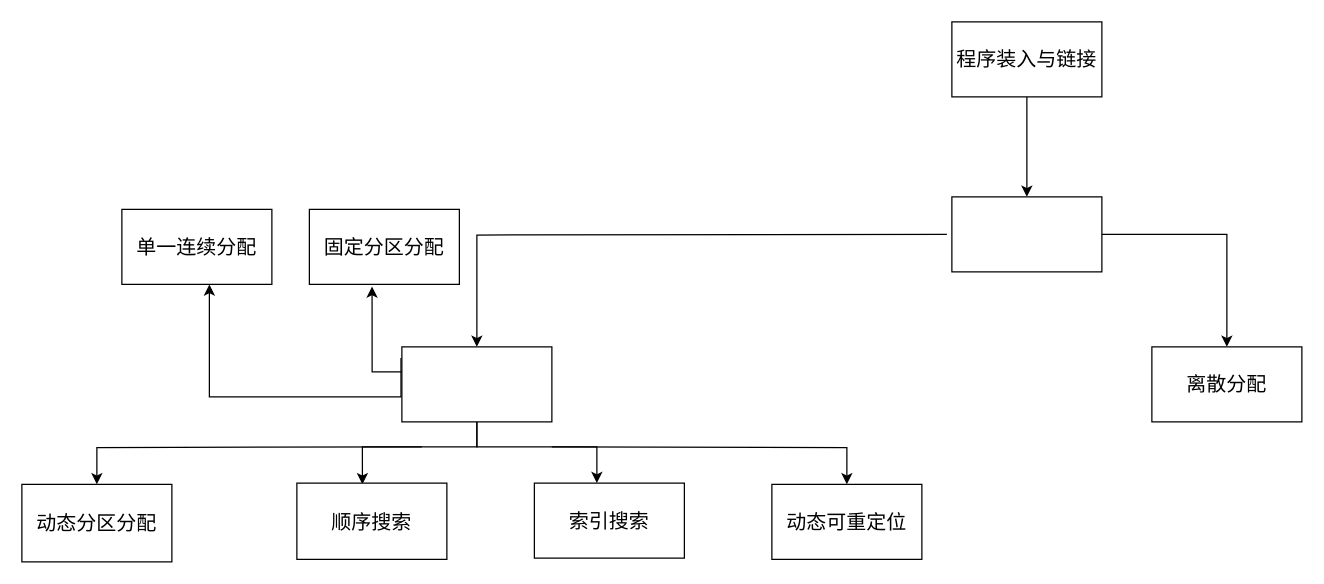
The diagram is 1324 pixels wide and 584 high, and some of its shapes have lost their labels. The shapes that lost their labels are listed below. From the top down, each one's centre as x and y in pixels, then its label:
At point 1026,234: "内存的分配".
At point 476,384: "连续分配".
